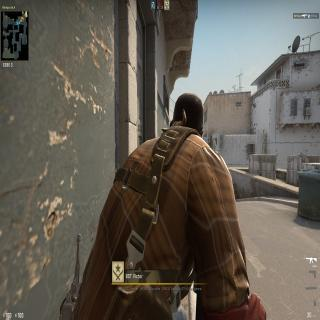T-Head: (168, 90, 206, 142)
